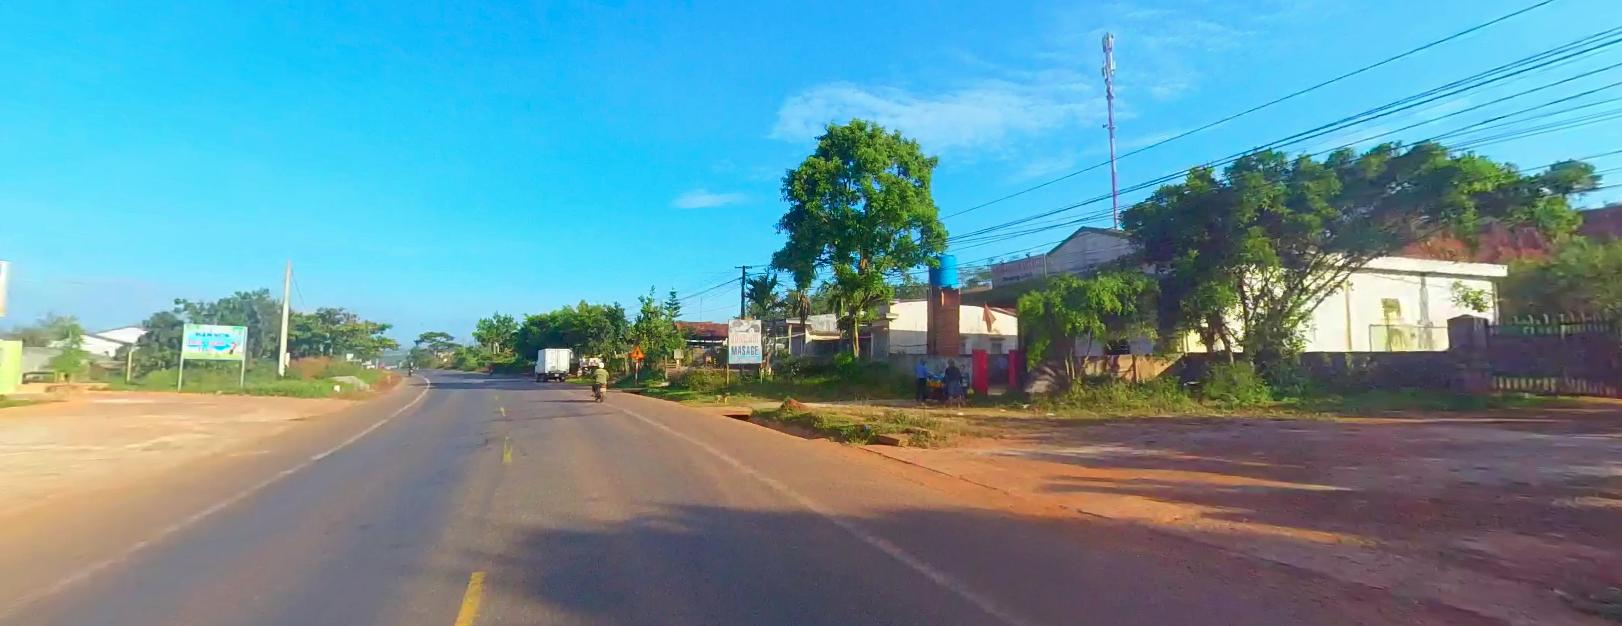Nguy hiem: (629, 343, 645, 357), (629, 343, 643, 357), (629, 344, 643, 356)
